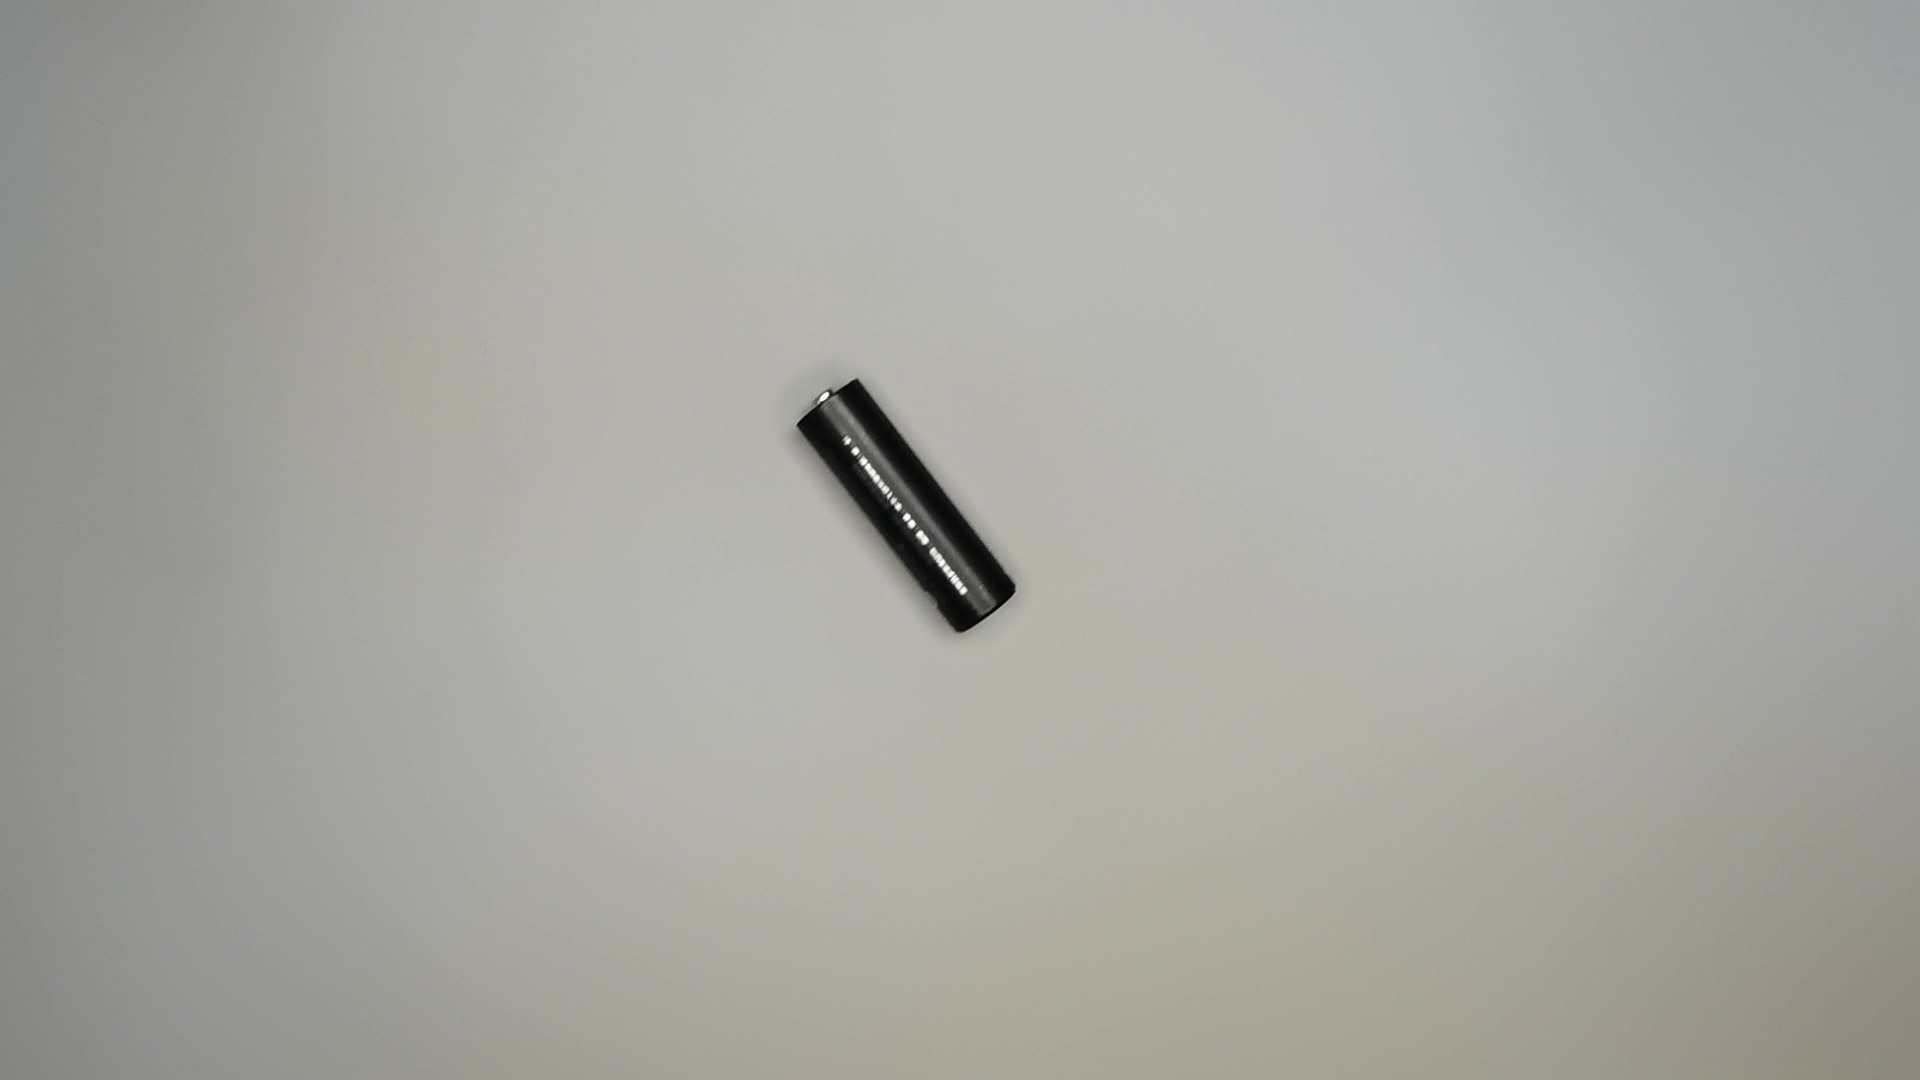battery: (796, 372, 1021, 632)
